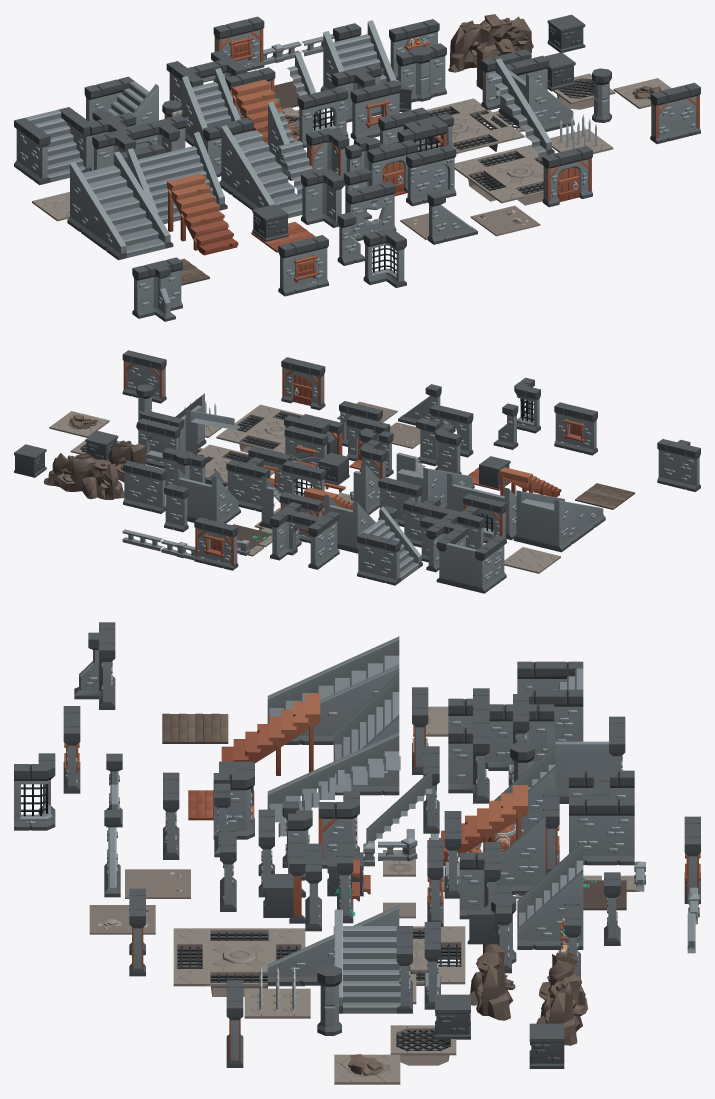
The model's file is secondtileset.glb.
The picture shows the model from 3 angles, top to bottom: view 1: azimuth 30°, elevation 25°; view 2: azimuth 150°, elevation 25°; view 3: azimuth 270°, elevation 25°; orthographic projection. The views are drawn at different scales.
Parts seen in each view (by area): view 1: stairs_long_col, stairs_walled_col, floor_tile_extralarge_grates_col, stairs_wide_col, stairs_wood_col, rubble_large_col, stairs_wall_left_col, floor_tile_extralarge_grates_open_col, wall_Tsplit_sloped_col, stairs_wall_right_col, wall_doorway_Tsplit_col, wall_scaffold_col (+50 smaller); view 2: stairs_long_col, stairs_walled_col, stairs_wall_right_col, wall_doorway_sides_col, rubble_large_col, floor_tile_extralarge_grates_col, stairs_col, wall_doorway_Tsplit_col, wall_Tsplit_sloped_col, wall_window_closed_scaffold_col, wall_window_closed_col, wall_shelves_col (+50 smaller); view 3: floor_tile_extralarge_grates_col, stairs_wall_left_col, wall_doorway_sides_col, stairs_long_col, stairs_col, wall_doorway_Tsplit_col, stairs_wide_col, stairs_walled_col, wall_crossing_col, stairs_wood_col, stairs_wood_decorated_col, stairs_wall_right_col (+54 smaller).
Part boxes in pixels (left/top/right/bottom): stairs_long_col: left=67, top=151, right=173, bottom=260; stairs_walled_col: left=14, top=107, right=90, bottom=185; floor_tile_extralarge_grates_col: left=454, top=144, right=553, bottom=205; stairs_wide_col: left=127, top=132, right=227, bottom=224; stairs_wood_col: left=167, top=173, right=238, bottom=255; rubble_large_col: left=448, top=14, right=533, bottom=72; stairs_wall_left_col: left=498, top=55, right=574, bottom=131; floor_tile_extralarge_grates_open_col: left=426, top=98, right=524, bottom=153; wall_Tsplit_sloped_col: left=132, top=257, right=182, bottom=321; stairs_wall_right_col: left=84, top=76, right=158, bottom=149; wall_doorway_Tsplit_col: left=92, top=115, right=186, bottom=170; wall_scaffold_col: left=650, top=82, right=700, bottom=143; stairs_long_col: left=513, top=490, right=605, bottom=552; stairs_walled_col: left=436, top=527, right=506, bottom=593; stairs_wall_right_col: left=357, top=506, right=422, bottom=585; wall_doorway_sides_col: left=270, top=502, right=339, bottom=569; rubble_large_col: left=44, top=453, right=124, bottom=499; floor_tile_extralarge_grates_col: left=216, top=404, right=303, bottom=453; stairs_col: left=173, top=467, right=240, bottom=523; wall_doorway_Tsplit_col: left=403, top=496, right=484, bottom=549; wall_Tsplit_sloped_col: left=657, top=439, right=700, bottom=491; wall_window_closed_scaffold_col: left=194, top=517, right=238, bottom=570; wall_window_closed_col: left=554, top=402, right=597, bottom=455; wall_shelves_col: left=123, top=460, right=166, bottom=513; floor_tile_extralarge_grates_col: left=173, top=928, right=305, bottom=996; stairs_wall_left_col: left=333, top=909, right=412, bottom=1013; wall_doorway_sides_col: left=569, top=770, right=634, bottom=865; stairs_long_col: left=267, top=636, right=399, bottom=744; stairs_col: left=517, top=841, right=583, bottom=949; wall_doorway_Tsplit_col: left=448, top=688, right=489, bottom=803; stairs_wide_col: left=333, top=673, right=399, bottom=795; stairs_walled_col: left=517, top=661, right=583, bottom=741; wall_crossing_col: left=488, top=694, right=554, bottom=770; stairs_wood_col: left=221, top=693, right=320, bottom=775; stairs_wood_decorated_col: left=429, top=785, right=527, bottom=866; stairs_wall_right_col: left=545, top=716, right=625, bottom=803.
Size of the model in its own units: 57.6 by 6.1 by 41.69.
Materials: 93 (93 with a texture image).
